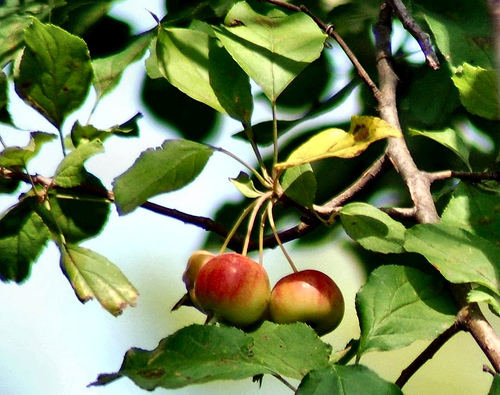apple: (197, 250, 273, 331), (265, 269, 348, 341)
